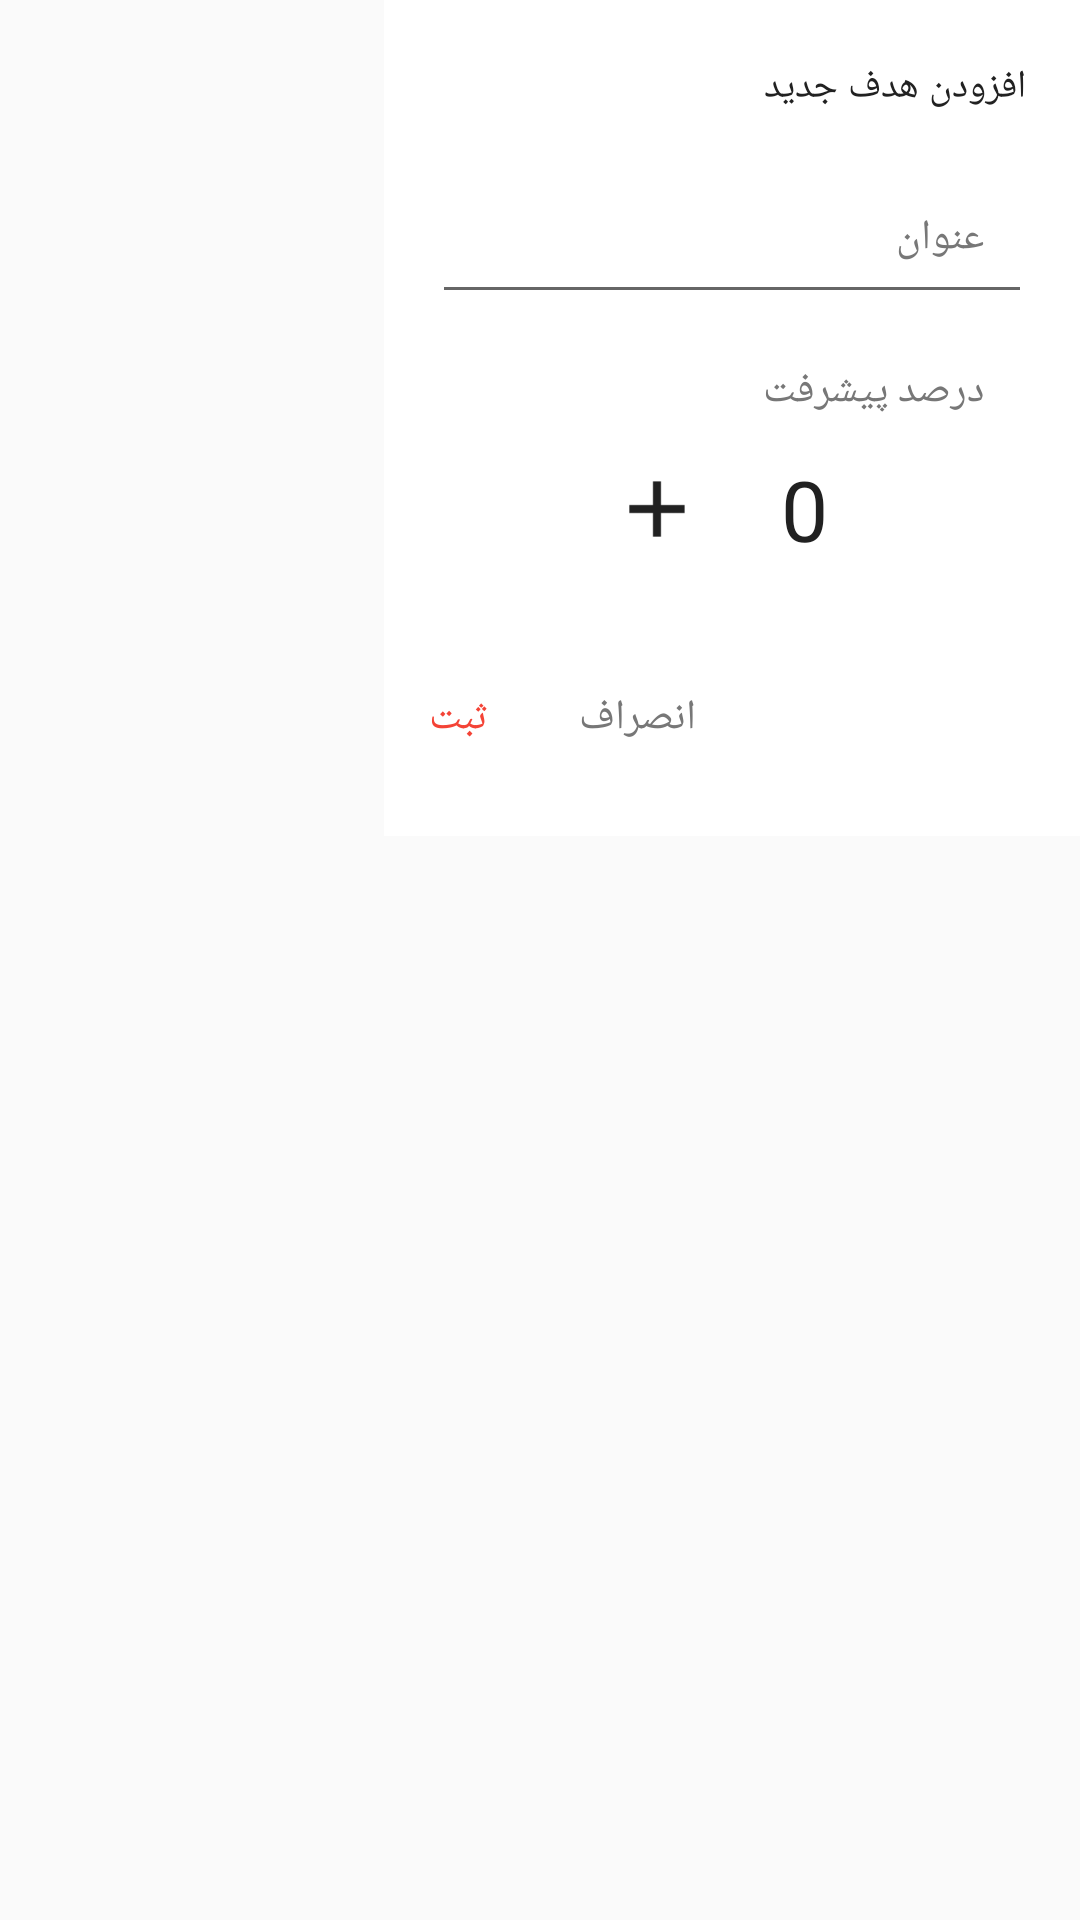

Named icons in this screenshot (1080 x 1920) and their bounding boxes, (x1, y1, x2, y2):
add: (629, 481, 685, 537)
